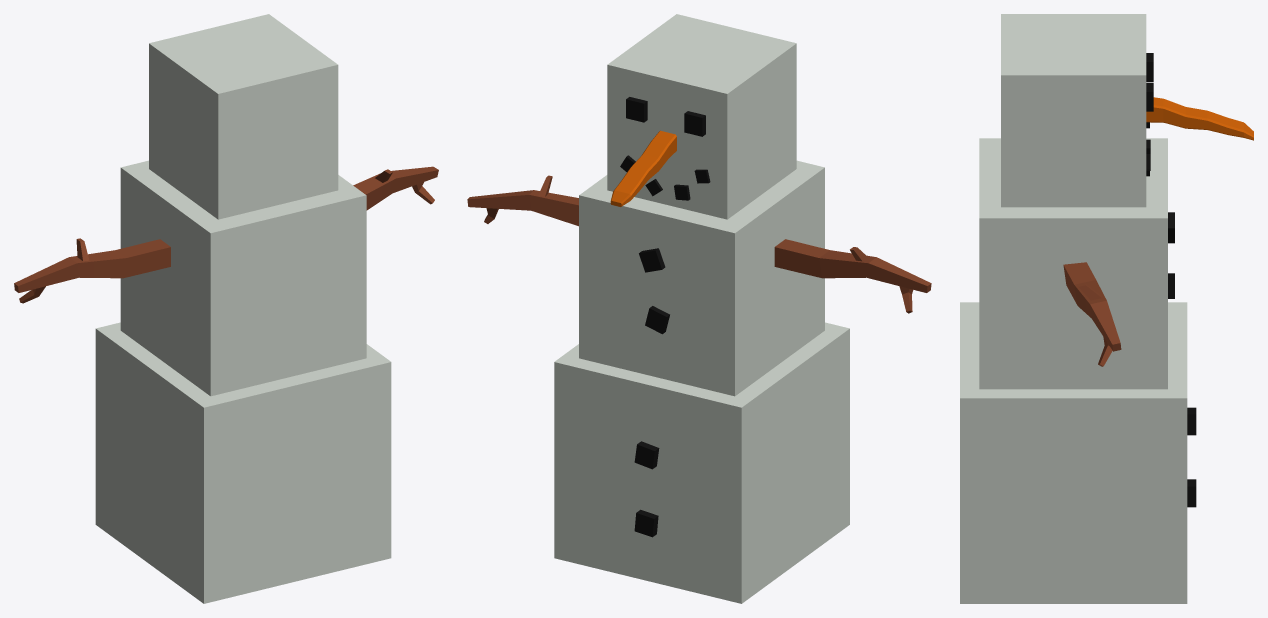
File: npc_v1.fbx
3 renders of one model, left to right at view 1: azimuth 30°, elevation 25°; view 2: azimuth 150°, elevation 25°; view 3: azimuth 270°, elevation 25°, orthographic. The views are drawn at different scales.
Parts seen in each view (by area): view 1: Cube.017; view 2: Cube.017; view 3: Cube.017.
Part boxes in pixels (left/top/right/bottom): Cube.017: left=14, top=14, right=438, bottom=603; Cube.017: left=467, top=14, right=931, bottom=603; Cube.017: left=960, top=14, right=1253, bottom=603.
Bounding box in the file's own units: 471 × 497 × 259.
